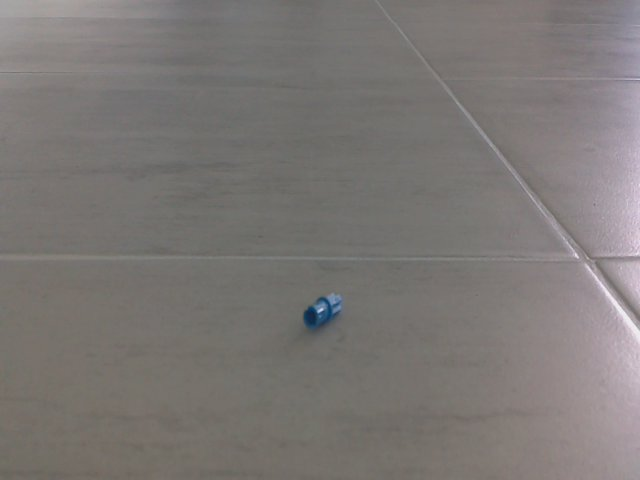Blau: (297, 284, 346, 333)
